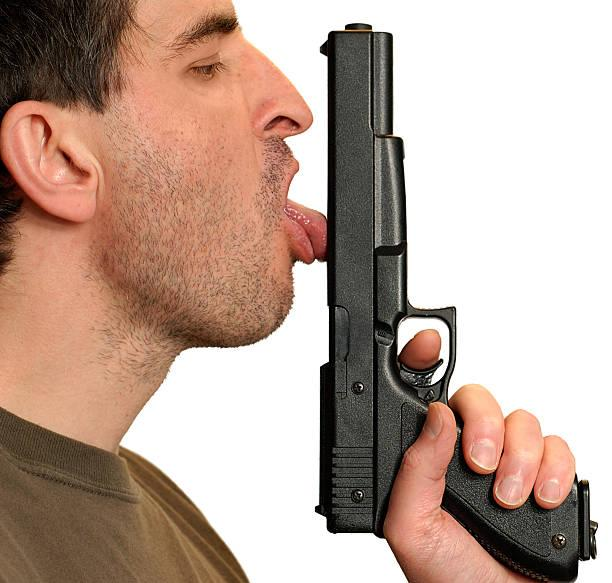weapon: (318, 15, 599, 579)
